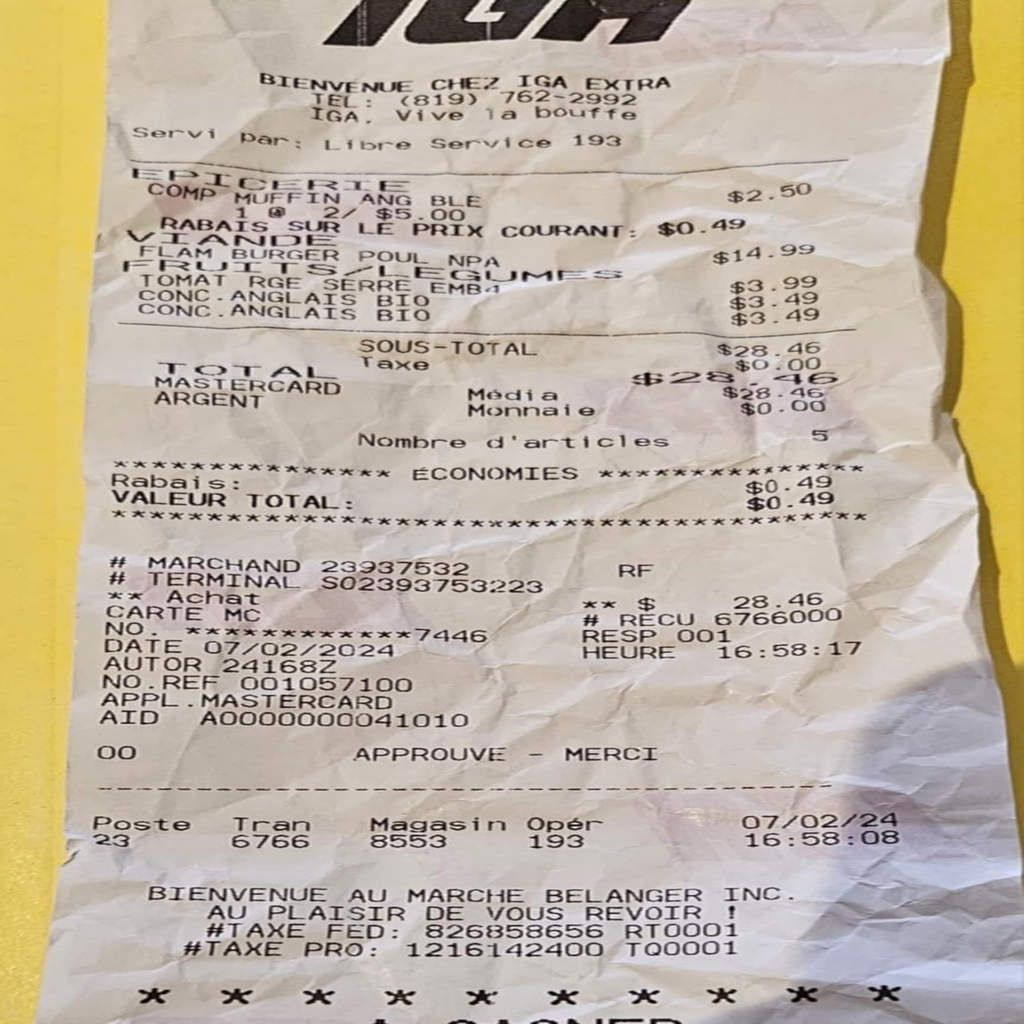recipt: (36, 0, 1024, 1011)
